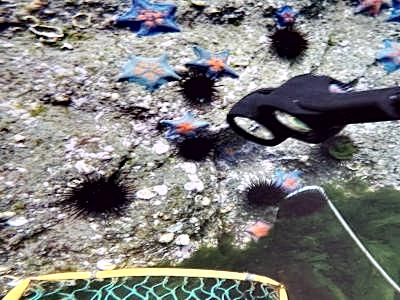urchin: (72, 174, 128, 215), (284, 192, 323, 219), (269, 29, 301, 60), (244, 182, 280, 204), (182, 74, 212, 100), (177, 141, 209, 156)
